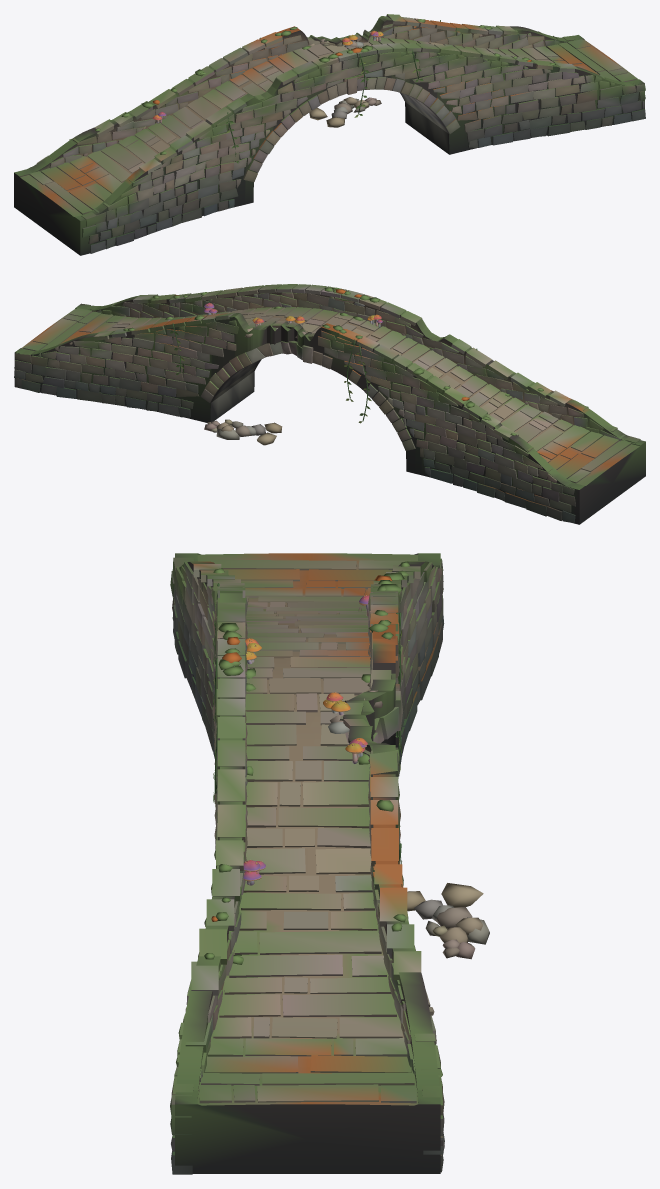
File: kopru_tas_yikik.glb
The picture shows the model from 3 angles, top to bottom: view 1: azimuth 30°, elevation 25°; view 2: azimuth 150°, elevation 25°; view 3: azimuth 270°, elevation 25°; orthographic projection. The views are drawn at different scales.
Parts seen in each view (by area): view 1: kopru_tas_yikik_LOD0; view 2: kopru_tas_yikik_LOD0; view 3: kopru_tas_yikik_LOD0.
Part boxes in pixels (x1,y1,x2,y2): kopru_tas_yikik_LOD0: [14, 14, 645, 255]; kopru_tas_yikik_LOD0: [14, 284, 645, 524]; kopru_tas_yikik_LOD0: [170, 553, 489, 1174].
Size of what is drawn, in the model's own units: 26.02 by 5.55 by 6.38.
